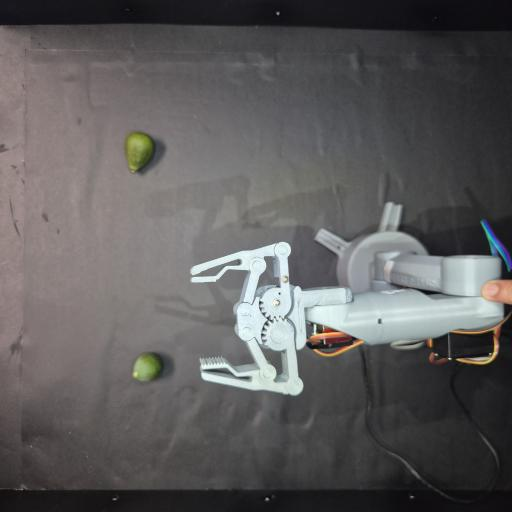higo: (125, 132, 155, 173), (133, 353, 163, 381)
